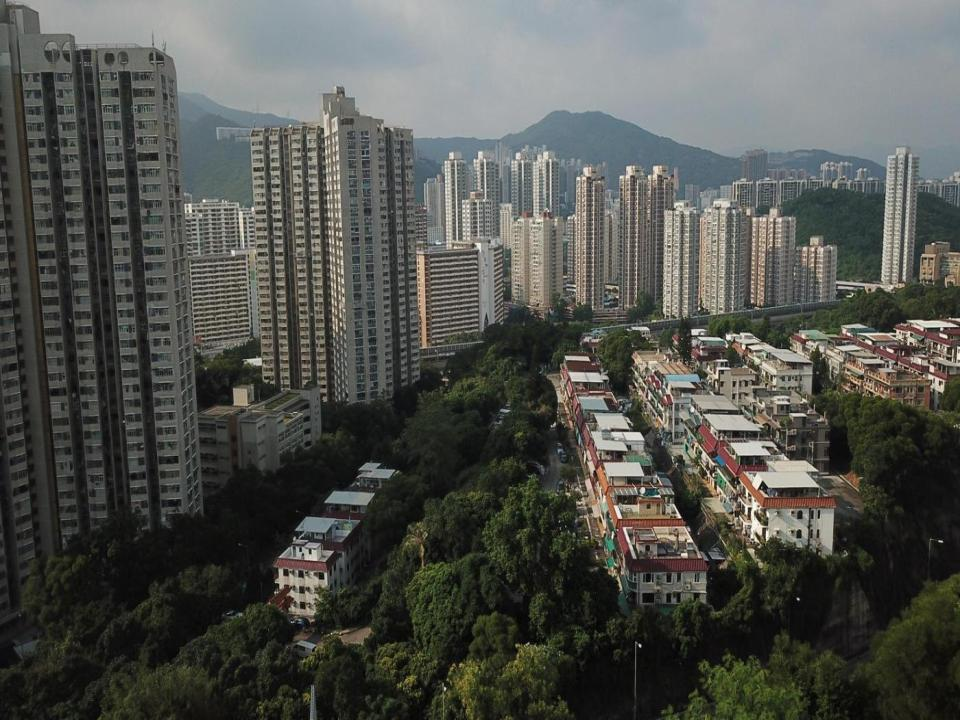car: (220, 608, 245, 624), (287, 616, 311, 631), (524, 463, 544, 476), (526, 460, 544, 473), (555, 479, 566, 495), (556, 440, 564, 455), (559, 450, 567, 463)
van: (291, 640, 317, 660)
